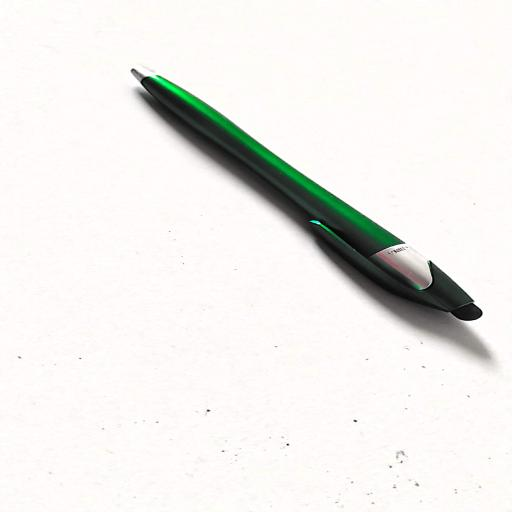pen: (132, 67, 481, 320)
